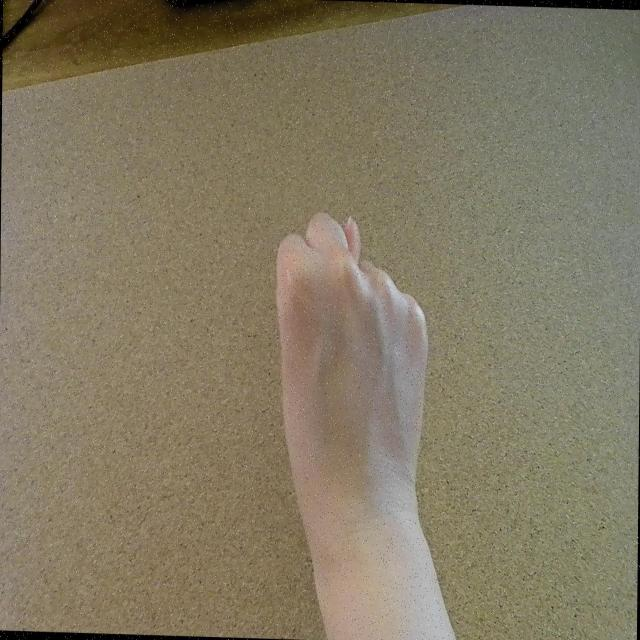N: (271, 207, 434, 563)
